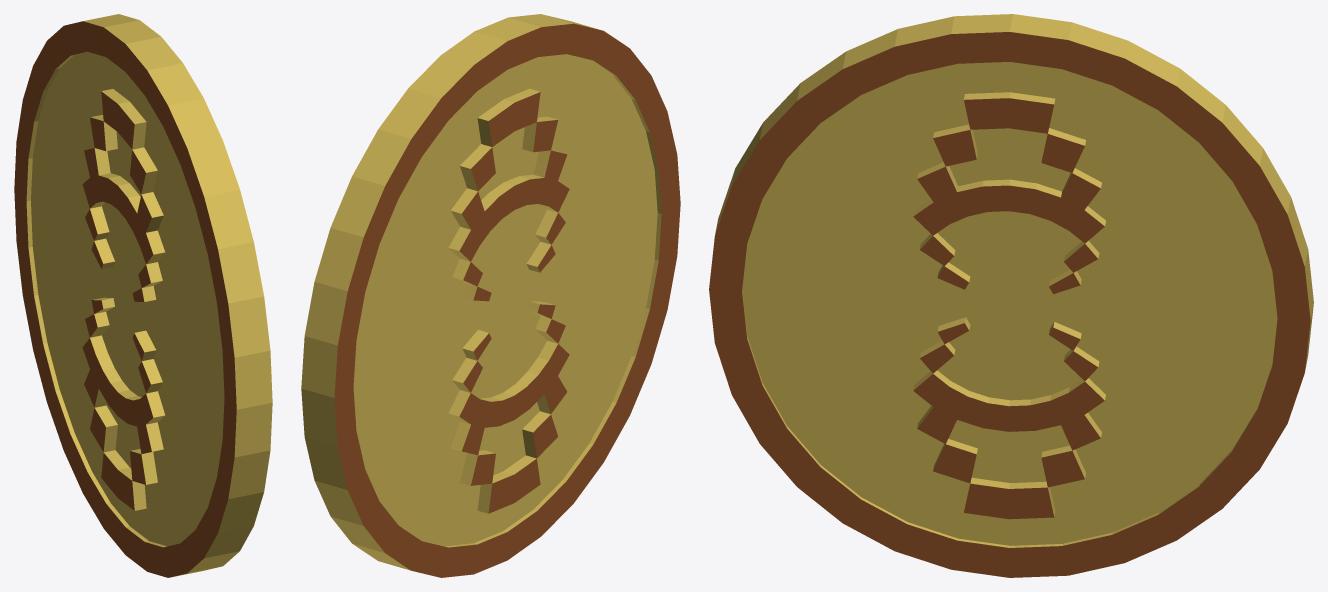
File: coin.fbx
The picture shows the model from 3 angles, left to right: view 1: azimuth 30°, elevation 25°; view 2: azimuth 150°, elevation 25°; view 3: azimuth 270°, elevation 25°; orthographic projection. The views are drawn at different scales.
Parts seen in each view (by area): view 1: Coin; view 2: Coin; view 3: Coin.
Boxes of the visible parts, left/top/right/bottom form: Coin: left=14, top=14, right=272, bottom=577; Coin: left=301, top=14, right=680, bottom=577; Coin: left=709, top=14, right=1313, bottom=577.
Bounding box in the file's own units: 23.04 × 120 × 121.
